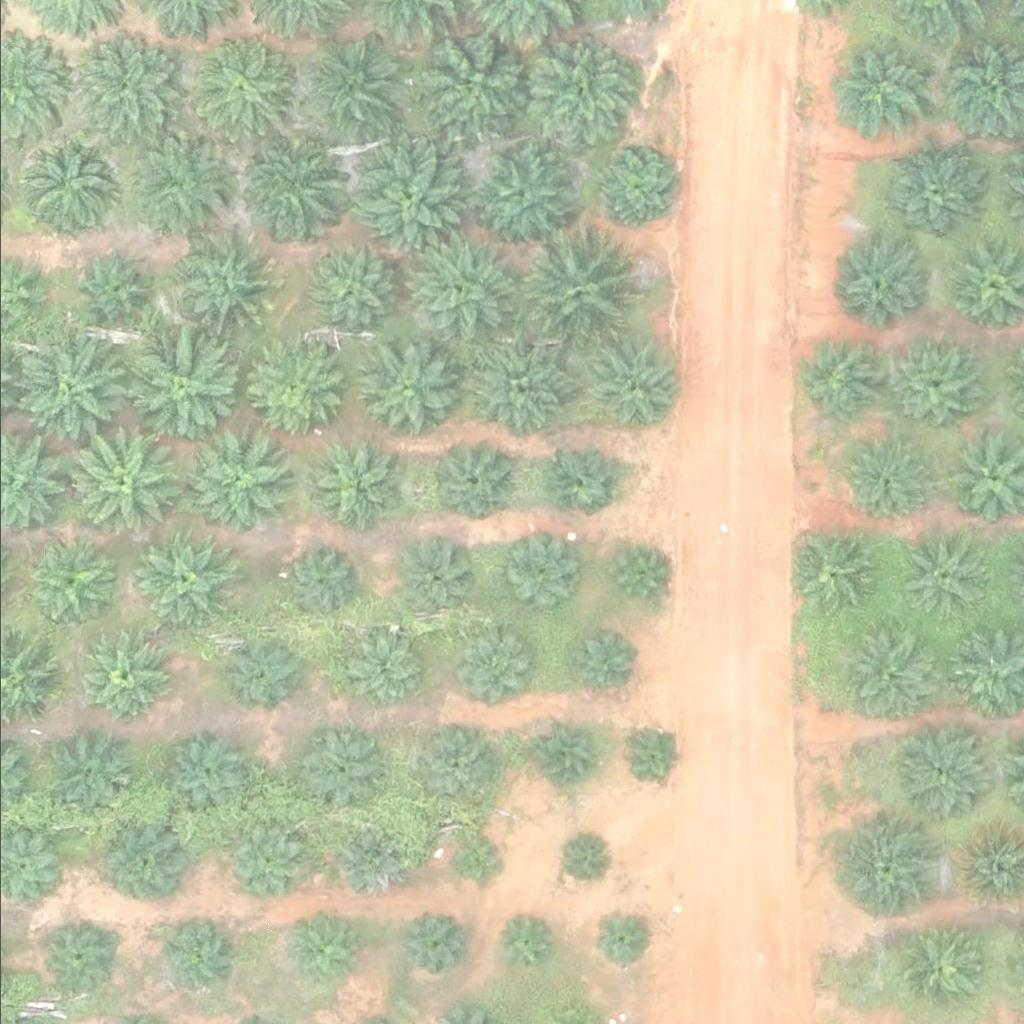Kelapa_Sawit: (518, 31, 644, 156), (407, 19, 533, 144), (60, 24, 186, 149), (343, 139, 469, 264), (517, 230, 643, 355), (394, 226, 520, 351), (118, 328, 244, 453), (5, 328, 131, 453), (58, 420, 184, 545), (829, 40, 930, 140), (843, 624, 944, 724), (891, 724, 992, 824), (837, 823, 938, 923), (296, 39, 397, 139), (195, 40, 296, 140), (240, 147, 341, 247), (135, 135, 236, 235), (172, 238, 273, 338), (18, 131, 119, 231), (881, 146, 981, 246), (830, 238, 930, 338), (884, 340, 984, 440), (472, 145, 572, 245), (580, 335, 680, 435), (464, 339, 564, 439), (357, 339, 457, 439), (240, 341, 340, 441), (184, 432, 284, 532), (133, 526, 233, 626), (298, 726, 386, 814), (98, 821, 186, 909), (840, 439, 928, 527), (900, 535, 988, 623), (790, 532, 878, 620), (893, 929, 981, 1017), (306, 441, 394, 529), (158, 730, 246, 818), (21, 539, 109, 627), (427, 436, 515, 523), (793, 340, 881, 427), (302, 247, 390, 334), (77, 635, 165, 722), (39, 730, 127, 817), (348, 630, 424, 705), (400, 540, 476, 615), (281, 545, 357, 620), (225, 634, 301, 709), (599, 152, 675, 227), (539, 440, 615, 515), (498, 538, 573, 613), (456, 631, 531, 706), (412, 729, 487, 804), (36, 923, 111, 998), (152, 911, 227, 986), (226, 821, 301, 896), (72, 249, 147, 324), (327, 828, 402, 903), (620, 723, 683, 786), (531, 724, 594, 787), (291, 921, 354, 984), (604, 543, 667, 605), (571, 633, 634, 695), (589, 908, 652, 970), (489, 912, 552, 974), (402, 912, 465, 974), (557, 838, 608, 888), (451, 837, 502, 887)
